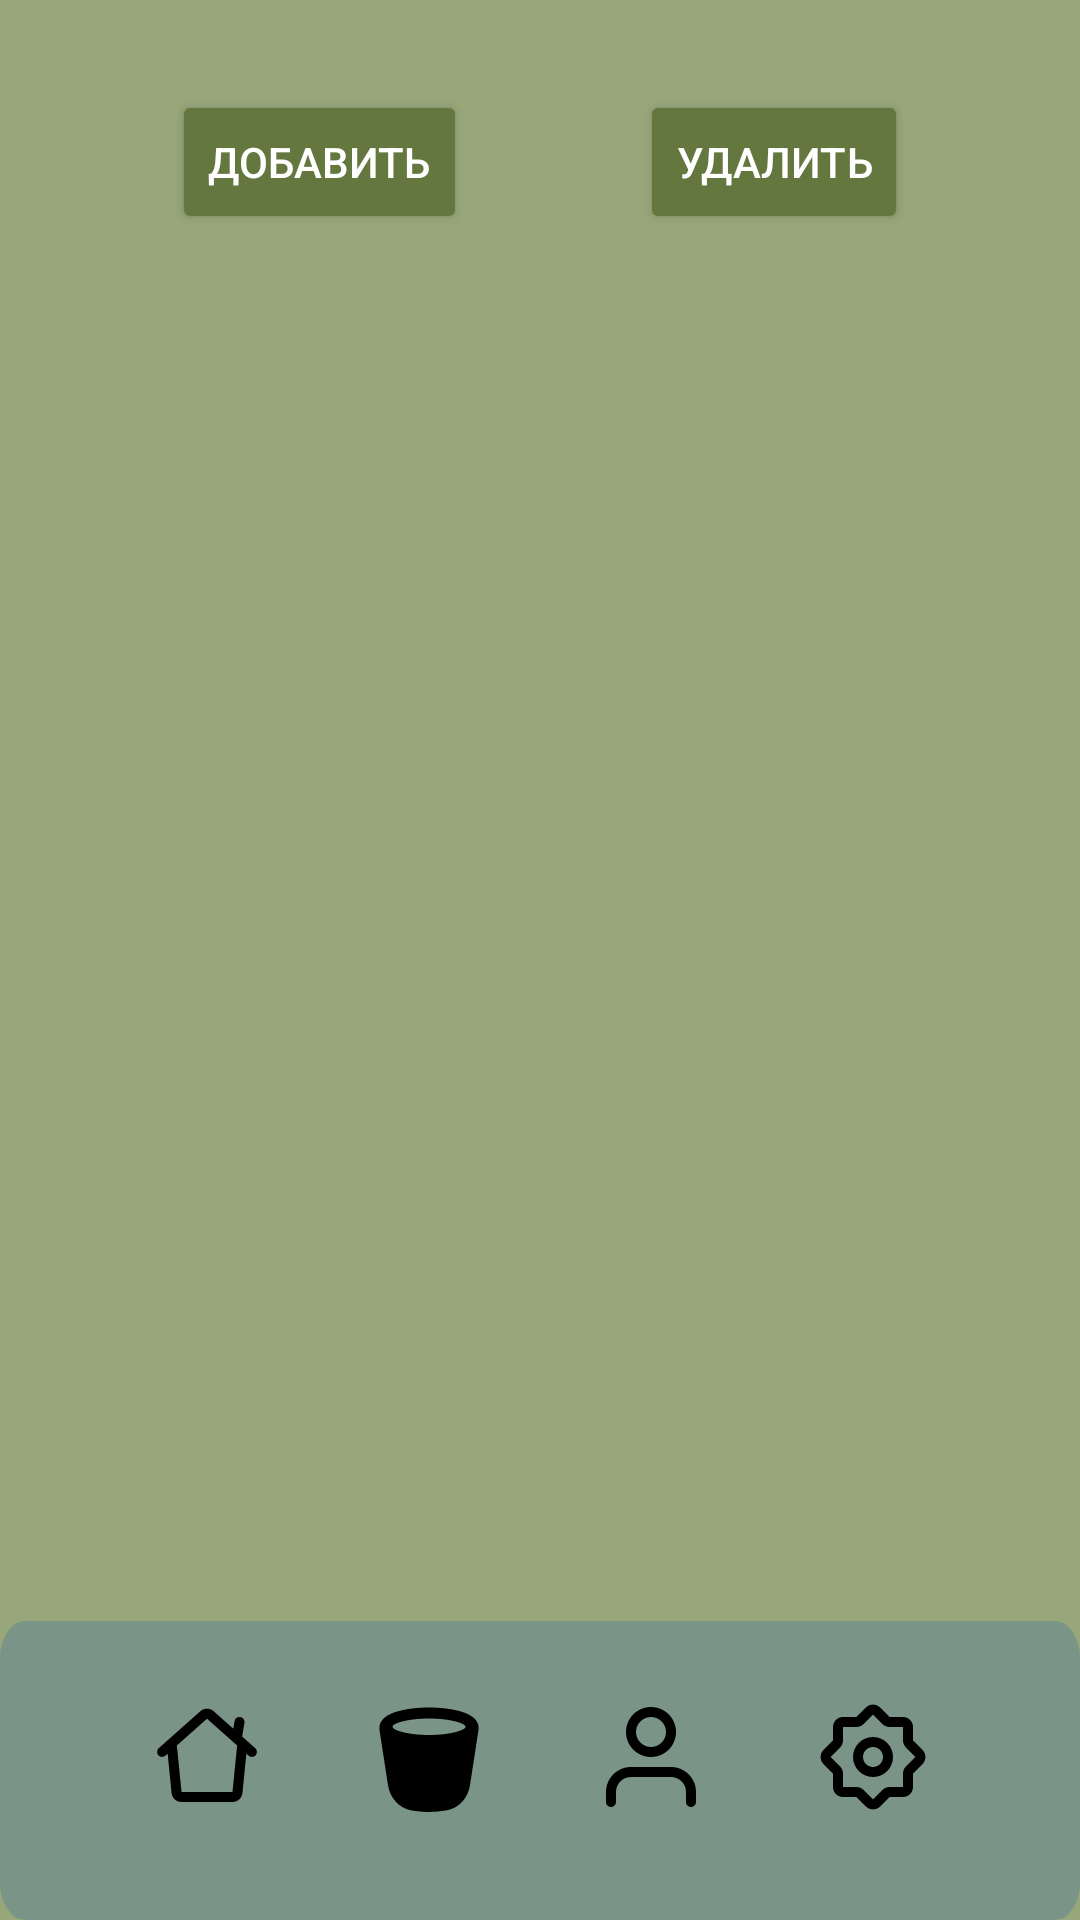

Named icons in this screenshot (1080 x 1920) and their centers, point (x, y):
home: point (207, 1755)
profile: point (651, 1757)
settings: point (873, 1757)
